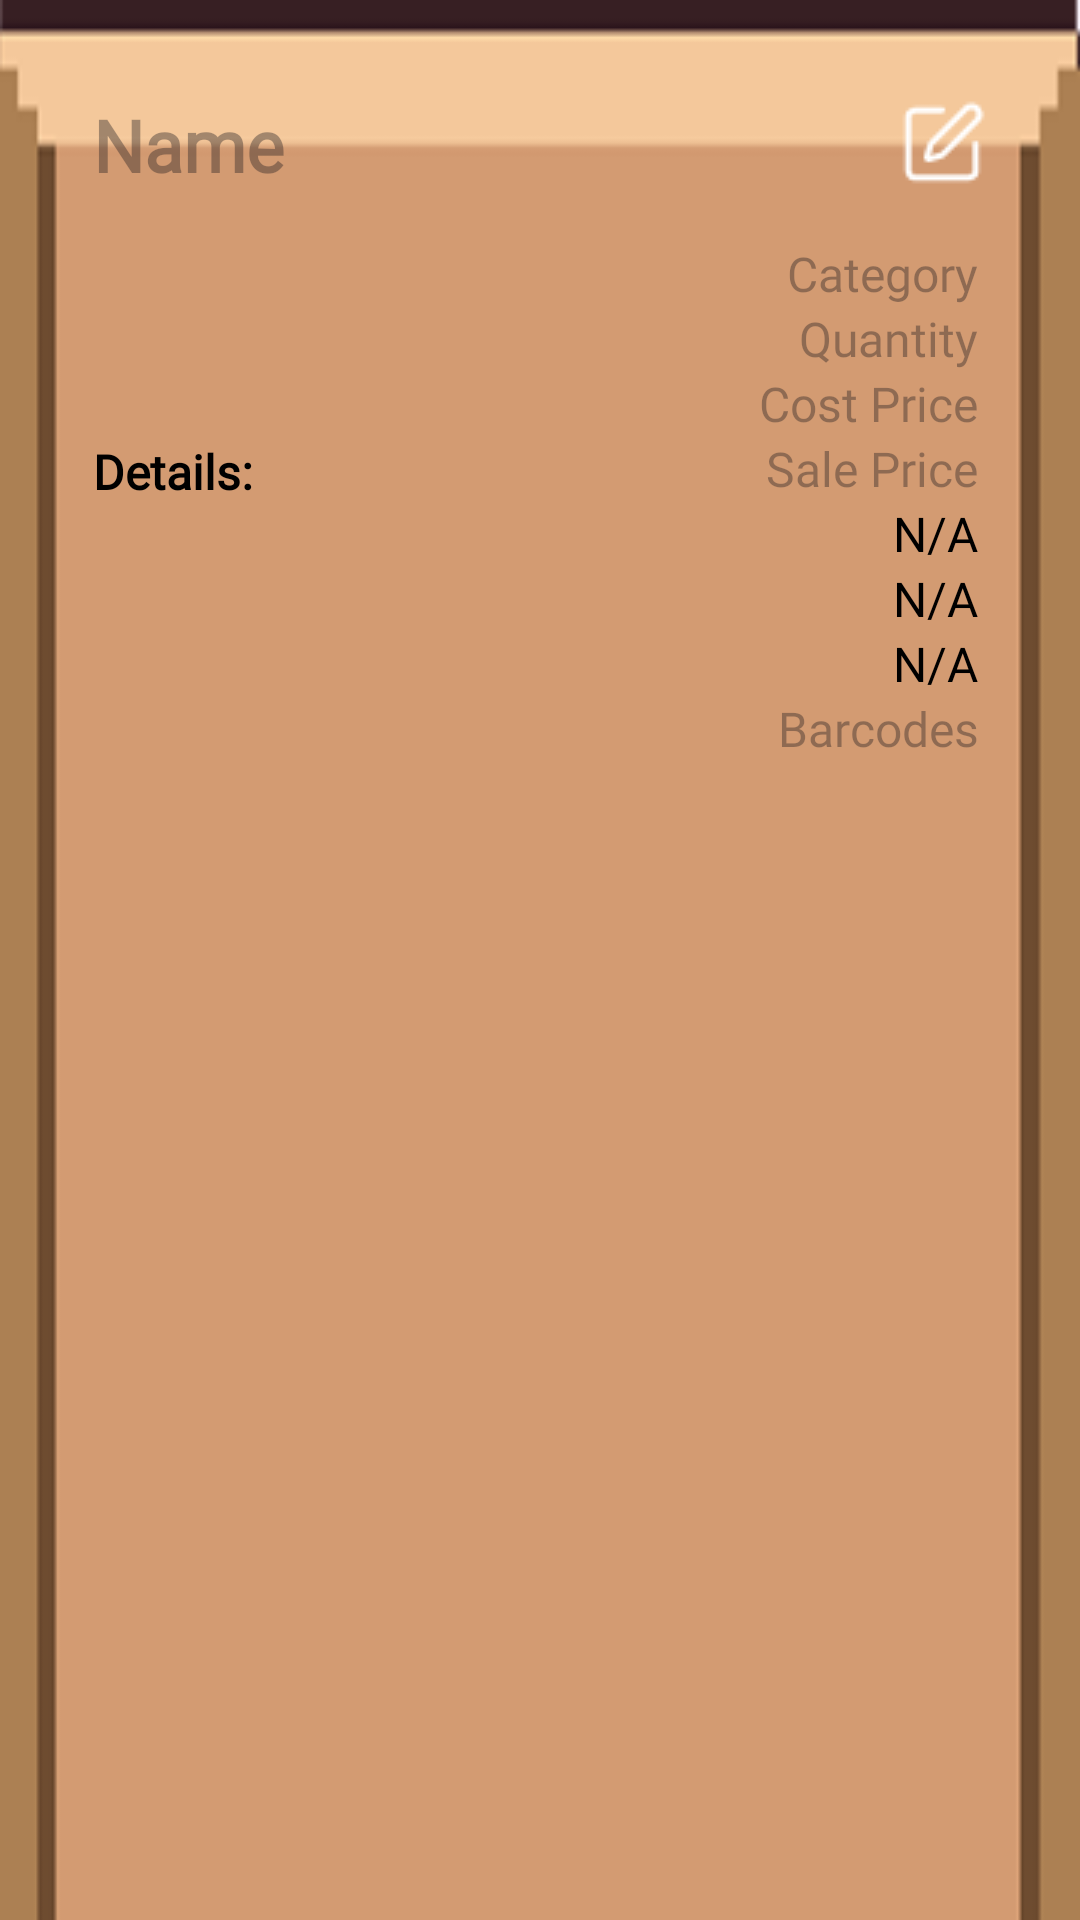

Named icons in this screenshot (1080*1920) and their centers, (x=x, y=y):
edit button: (x=942, y=144)
